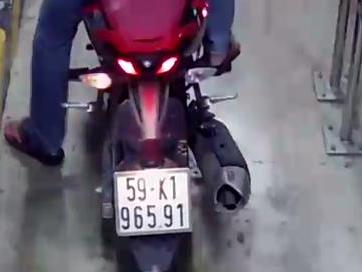num_plate: (113, 169, 194, 236)
